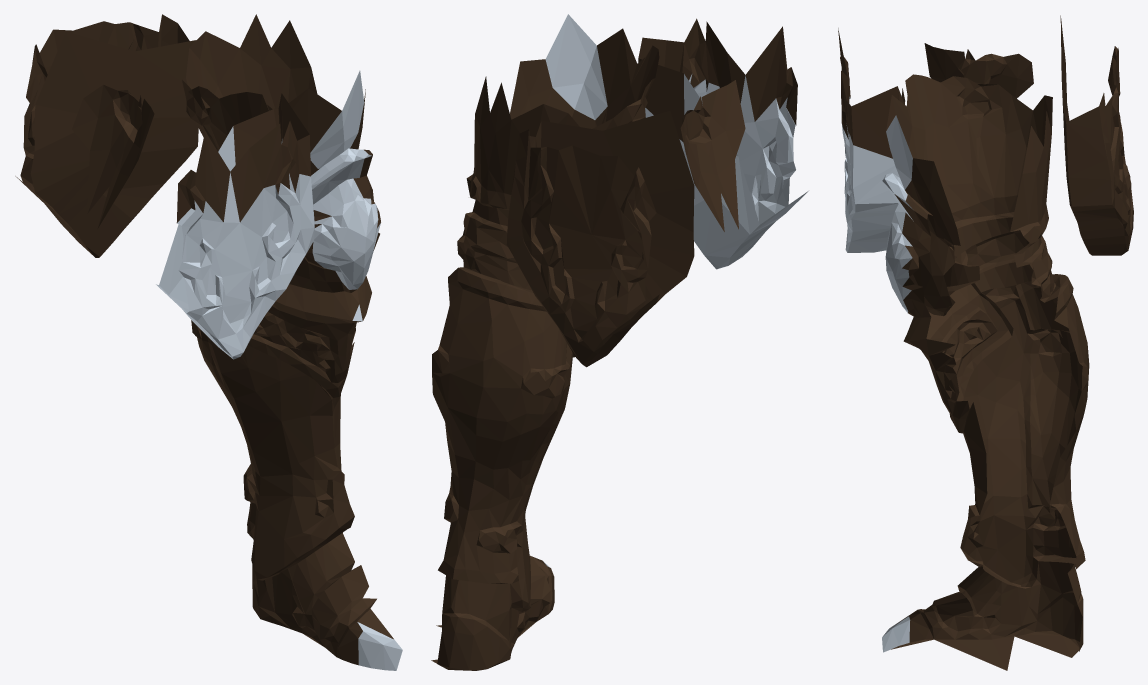
Rendered from knight_leg_l.obj.
3 views of the same model, side by side, from view 1: azimuth 30°, elevation 25°; view 2: azimuth 150°, elevation 25°; view 3: azimuth 270°, elevation 25° (orthographic). The views are drawn at different scales.
Parts seen in each view (by area): view 1: Knight_LeftLeg; view 2: Knight_LeftLeg; view 3: Knight_LeftLeg.
Boxes of the visible parts, x1,y1,x2,y2 form: Knight_LeftLeg: (15, 14, 402, 670); Knight_LeftLeg: (431, 14, 808, 670); Knight_LeftLeg: (838, 15, 1133, 670).
Size of the model in its own units: 0.4434 by 0.8707 by 0.4307.
